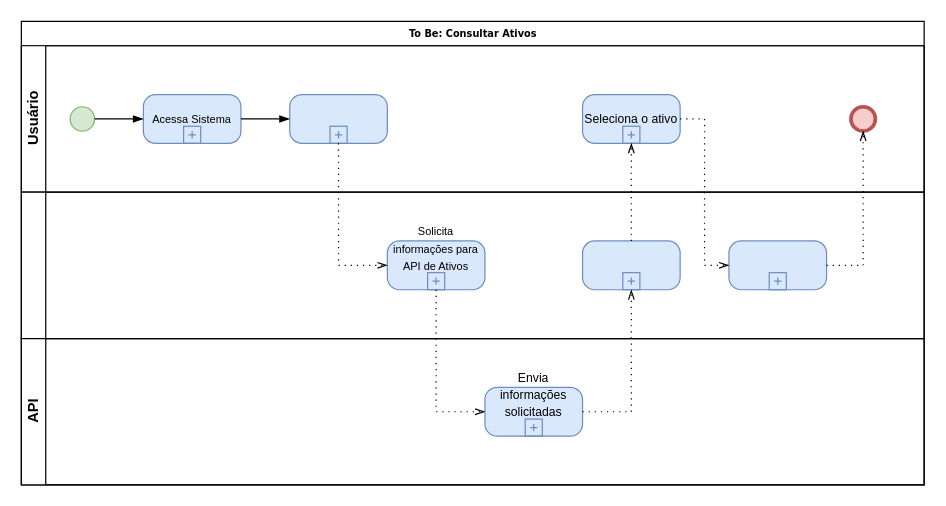
The diagram is 946 pixels wide and 506 high, and some of its shapes have lost their labels. Each missing label, with the box of its shape:
Exibe os ativos disponíveis: (581, 240, 680, 290)
Gera relatório do ativo escolhido: (728, 240, 827, 290)
Seleciona a opção de Consulta de Ativos: (289, 93, 387, 143)
Sistema: (20, 191, 924, 339)
